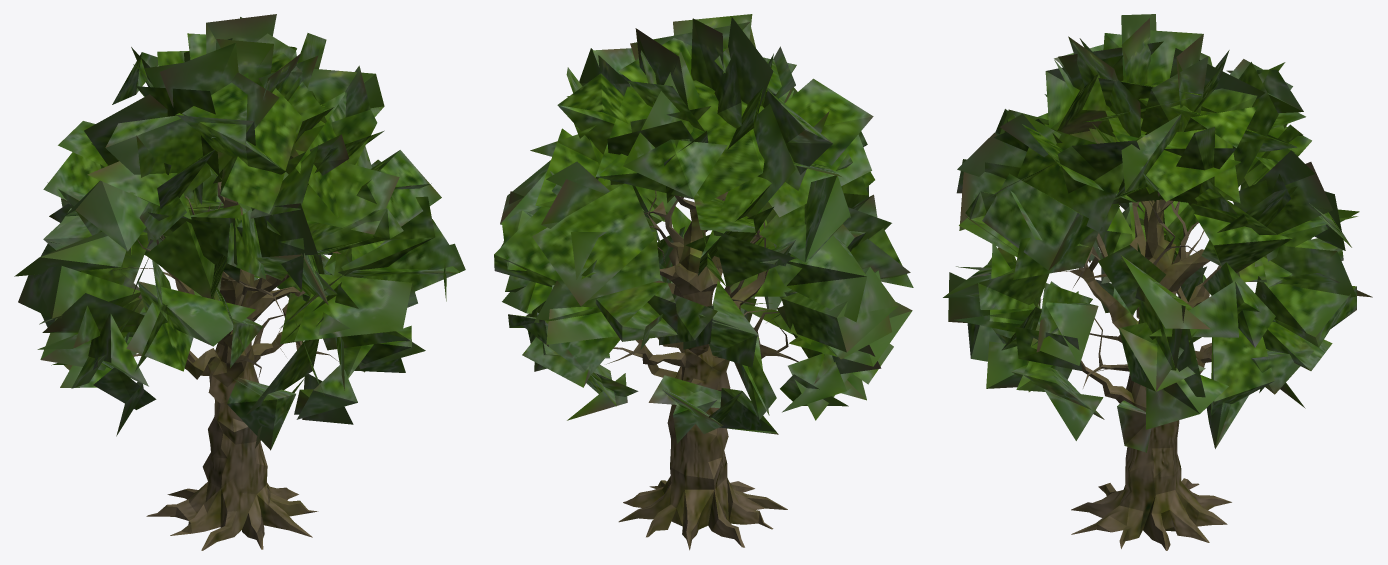
The model's file is tree_oak.glb.
3 views of the same model, side by side, from view 1: azimuth 30°, elevation 25°; view 2: azimuth 150°, elevation 25°; view 3: azimuth 270°, elevation 25° (orthographic).
Parts seen in each view (by area): view 1: geometry_0; view 2: geometry_0; view 3: geometry_0.
Boxes of the visible parts, x1,y1,x2,y2 form: geometry_0: (14,14,465,550); geometry_0: (494,14,913,550); geometry_0: (943,14,1372,550).
Size of the model in its own units: 0.7734 by 0.9536 by 0.7549.
Materials: 1 (1 with a texture image).
